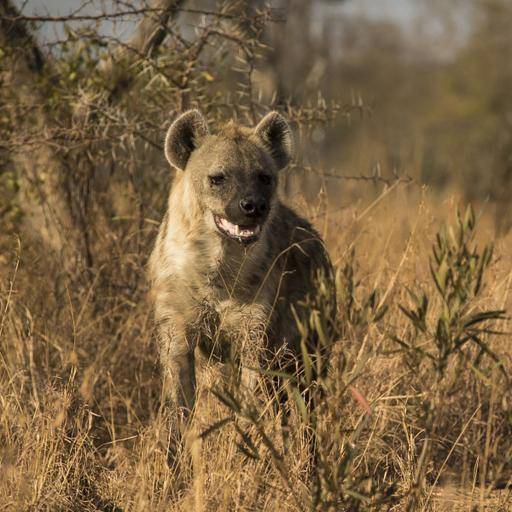Hyena: (124, 95, 358, 480)
